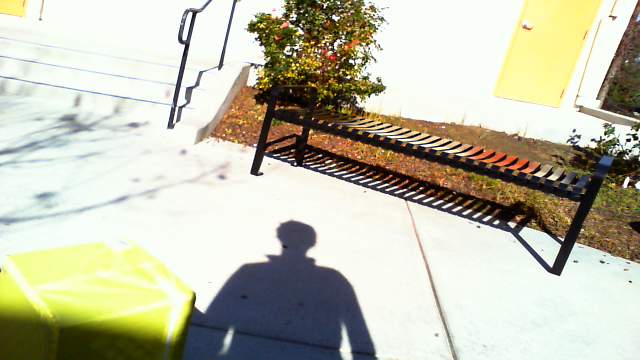cube: (1, 236, 197, 360)
